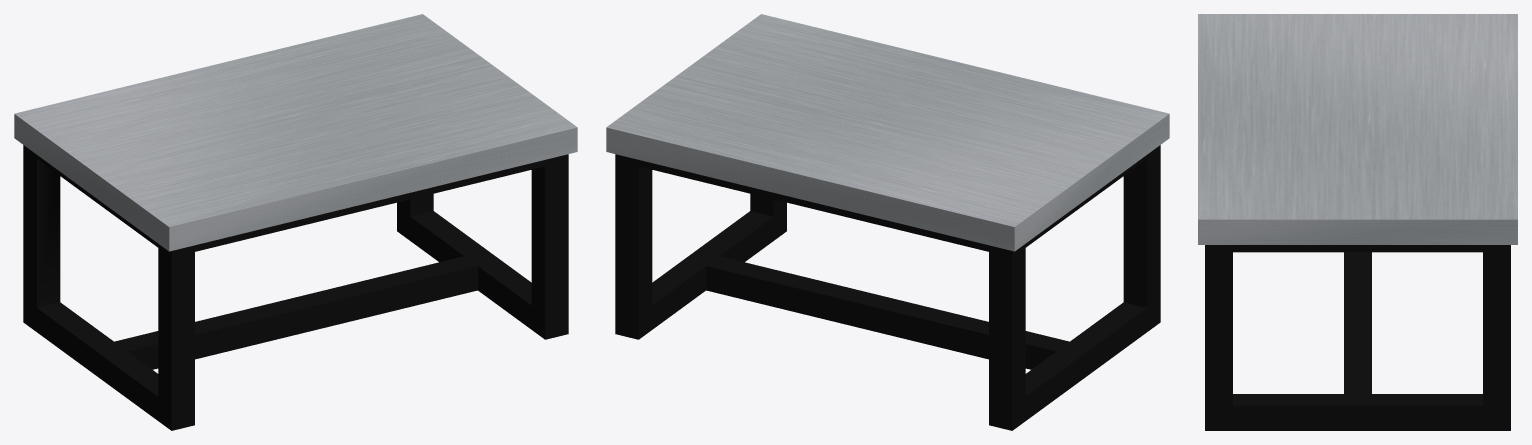
The model's file is Mesa.FBX.
3 renders of one model, left to right at view 1: azimuth 30°, elevation 25°; view 2: azimuth 150°, elevation 25°; view 3: azimuth 270°, elevation 25°, orthographic. The views are drawn at different scales.
Visible parts, largest first — view 1: Box005, Box002; view 2: Box005, Box002; view 3: Box005, Box002.
Boxes of the visible parts, bbox=[...] form: Box005: bbox=[14, 14, 577, 251]; Box002: bbox=[23, 145, 568, 430]; Box005: bbox=[606, 14, 1169, 251]; Box002: bbox=[615, 145, 1160, 430]; Box005: bbox=[1198, 14, 1517, 244]; Box002: bbox=[1205, 245, 1510, 430].
Size of the model in its own units: 68.9 by 33.46 by 45.28.
2 materials, 1 textured.
